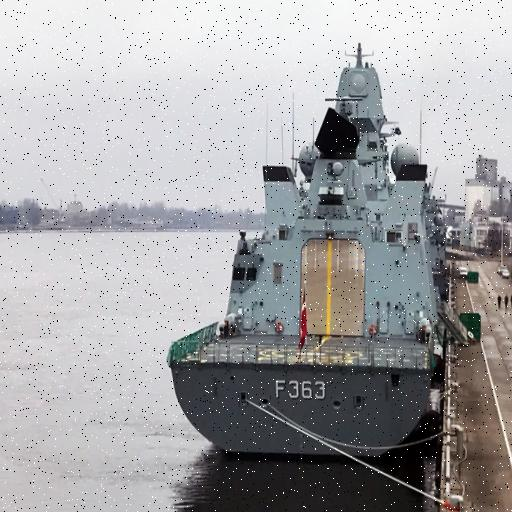Fragata: (169, 37, 453, 463)
